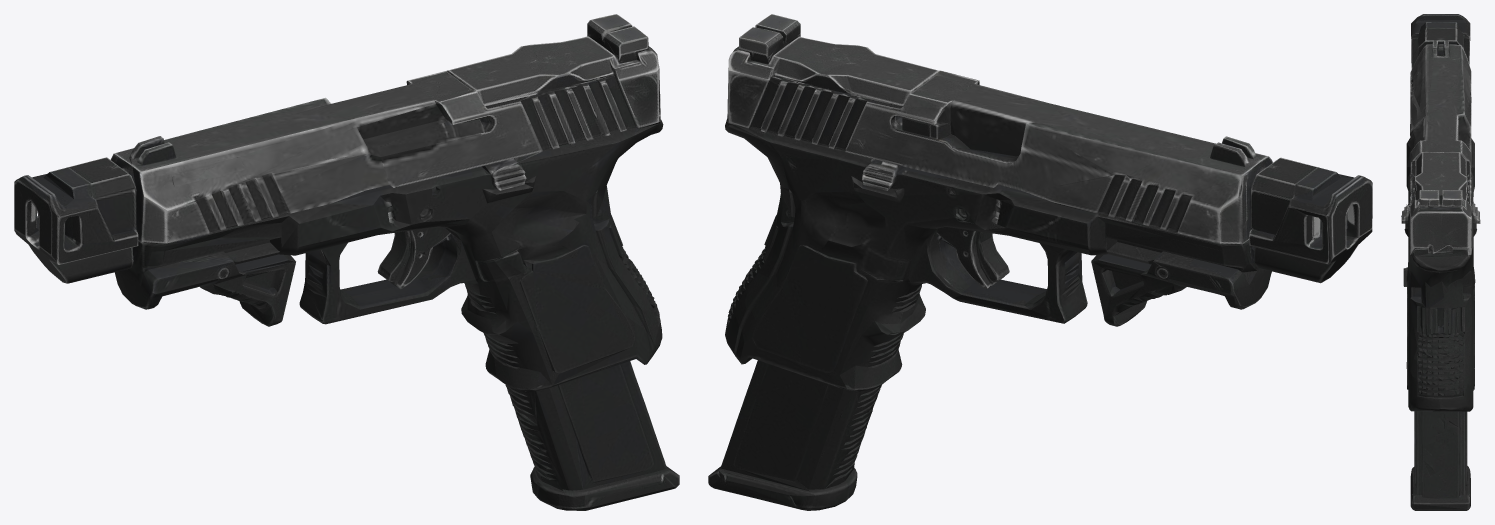
3 views of the same model, side by side, from view 1: azimuth 30°, elevation 25°; view 2: azimuth 150°, elevation 25°; view 3: azimuth 270°, elevation 25° (orthographic). The views are drawn at different scales.
Visible parts, largest first — view 1: Mesh_0; view 2: Mesh_0; view 3: Mesh_0.
Part boxes in pixels (<box>): Mesh_0: <box>14,14,679,510</box>; Mesh_0: <box>708,14,1372,510</box>; Mesh_0: <box>1401,14,1480,510</box>.
Size of the model in its own units: 1.9 by 1.32 by 0.3099.
1 material, 1 textured.
